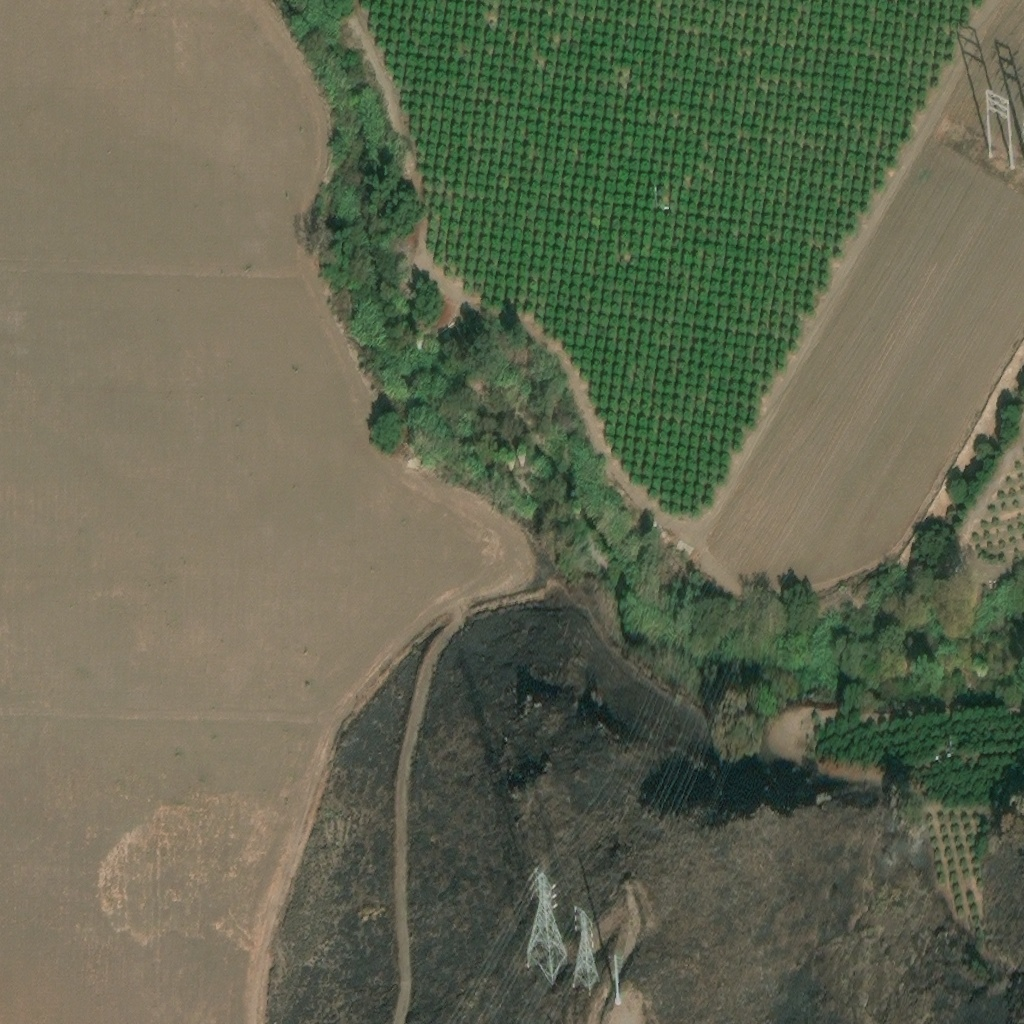4 un-classified: (674, 540, 695, 558), (946, 753, 953, 759), (936, 754, 944, 759)
